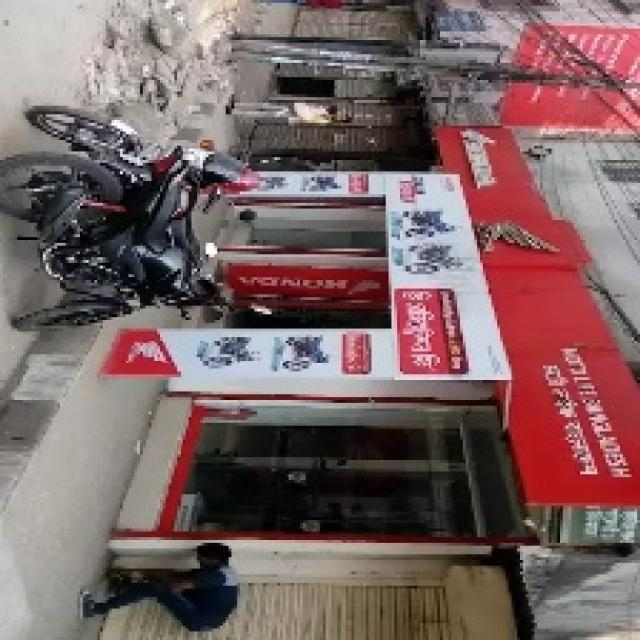bike: (12, 156, 253, 319), (28, 97, 279, 211)
